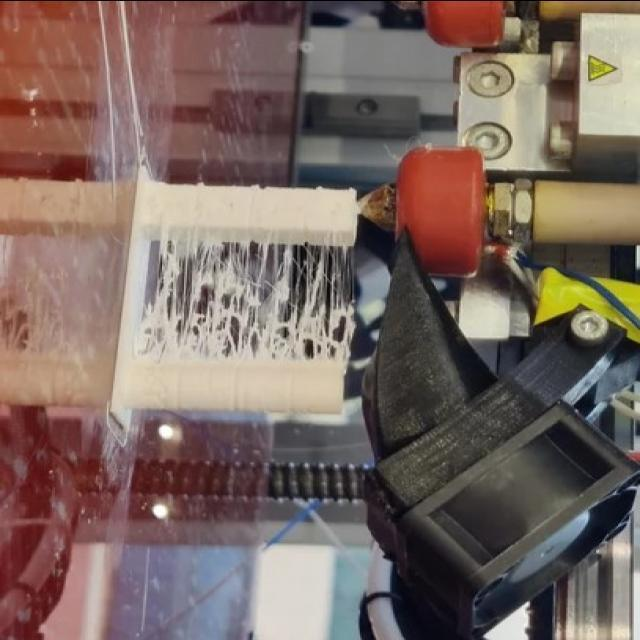stringing: (196, 248, 281, 359), (280, 258, 350, 356), (144, 248, 208, 354)
